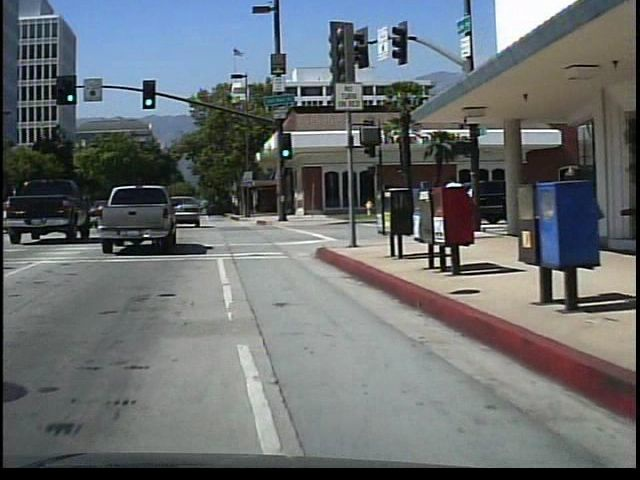person: (447, 170, 472, 240)
